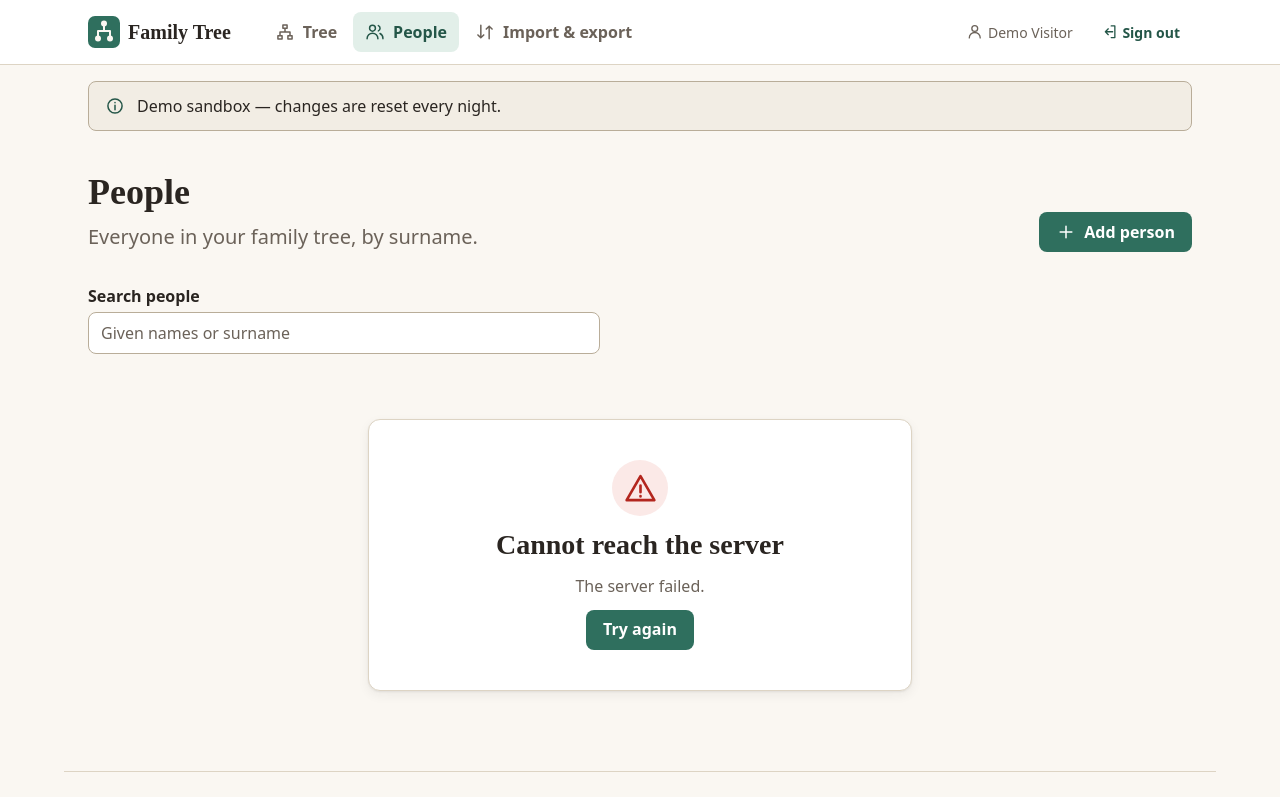
Test case: a failed load can be retried
Expected: the heading "Cannot reach the server" is shown, [496,528,784,562]
Click the button "Try again". click: (640, 630)
box: [586,610,694,650]
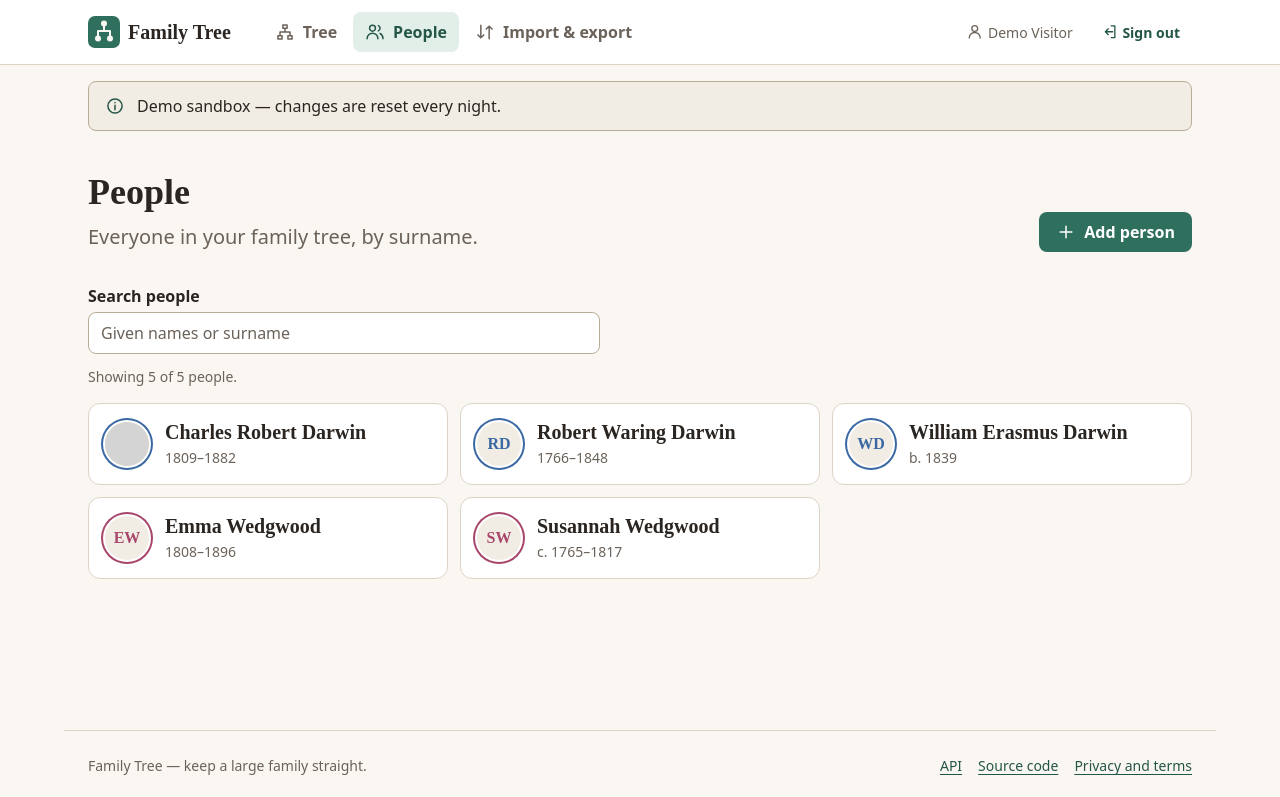
Result: the link "EW Emma Wedgwood 1808–1896" is shown at [88,497,448,579]
